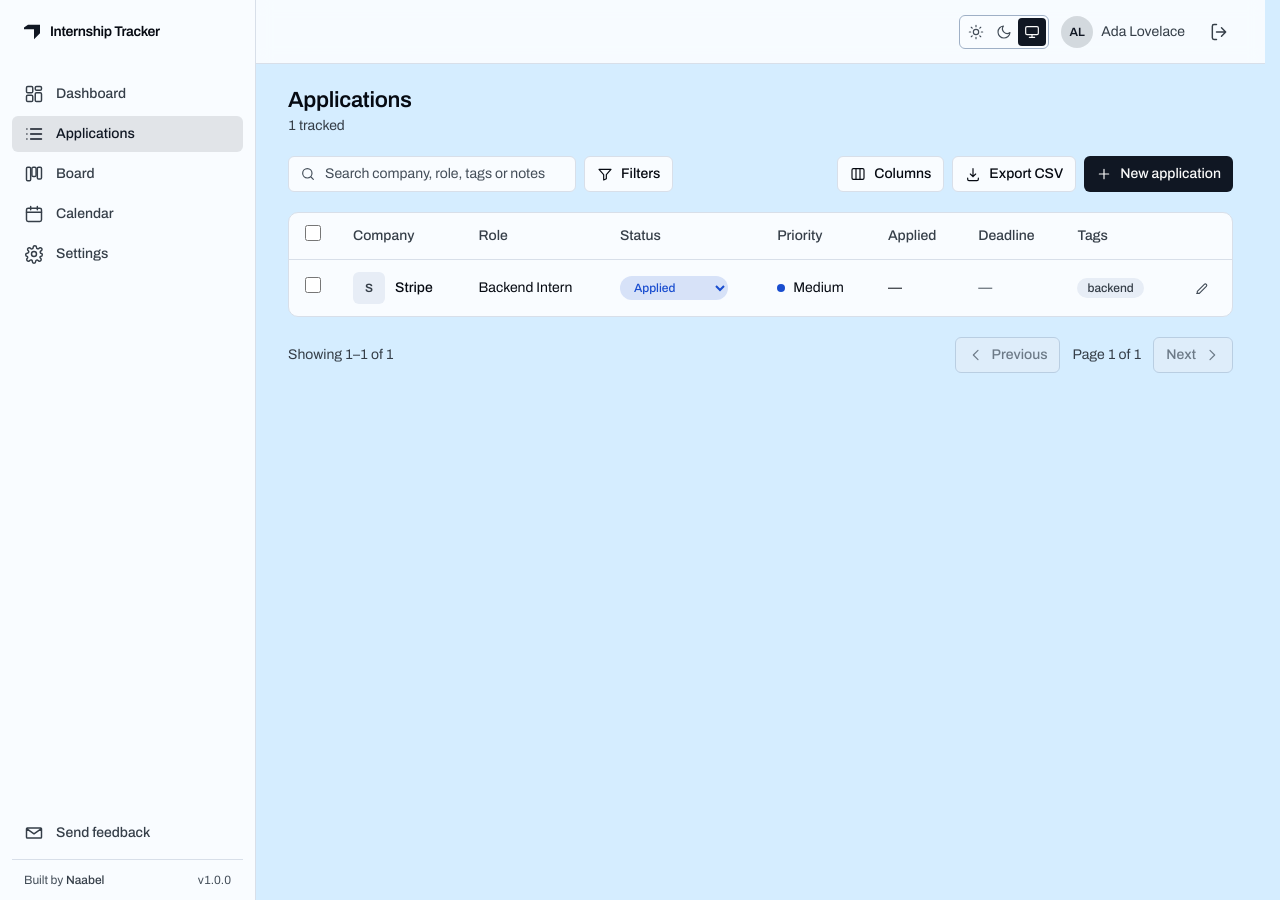
Test: the applications search field › shows a clear button only while there is text, and clicking it clears and refocuses
Check: the link "S Stripe" is shown, box [353,272,433,304]
Type "stri" into the search field named "Search applications" at (432, 174), box [288,156,576,192]
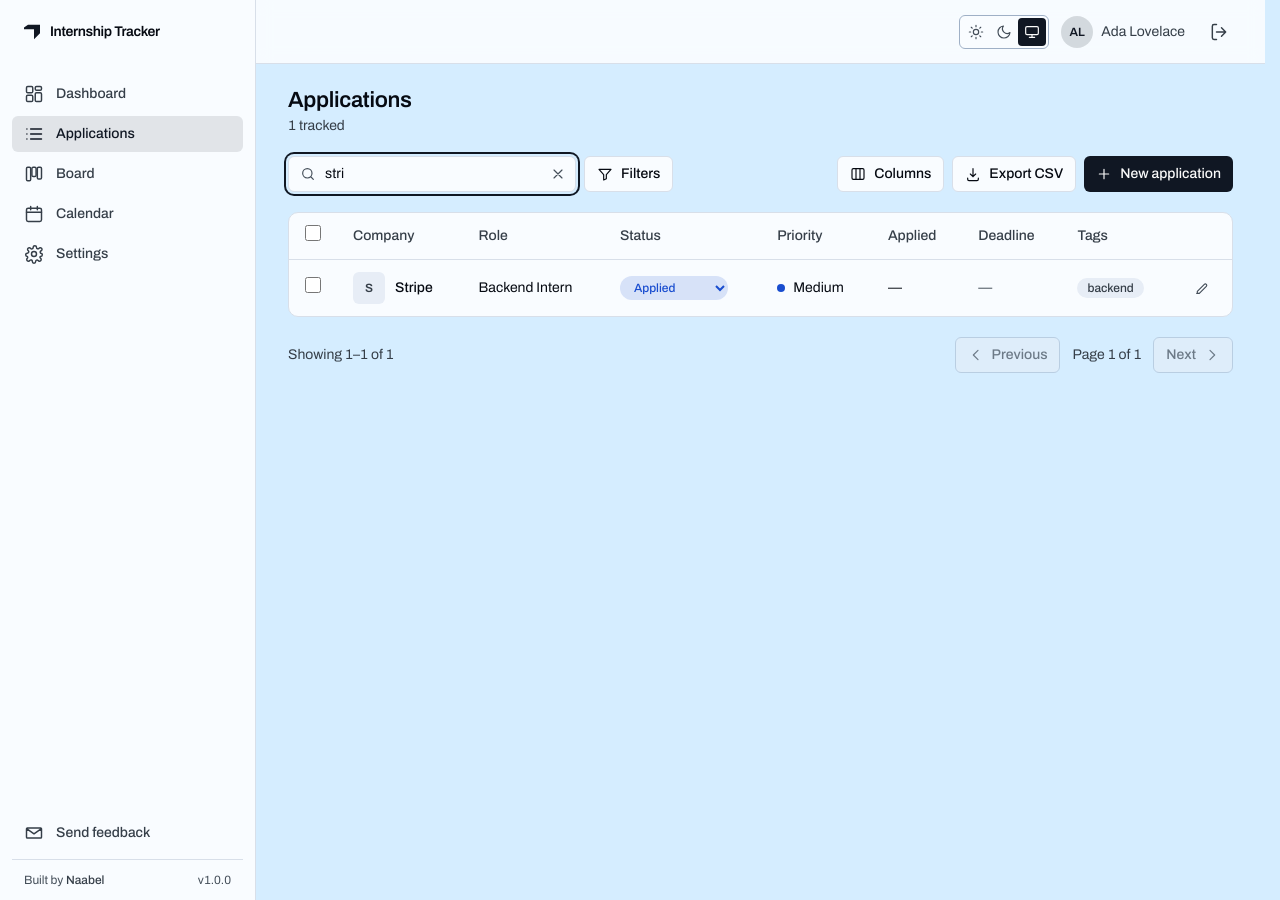
Click the button named "Clear search" at (558, 174), box [544,160,572,188]
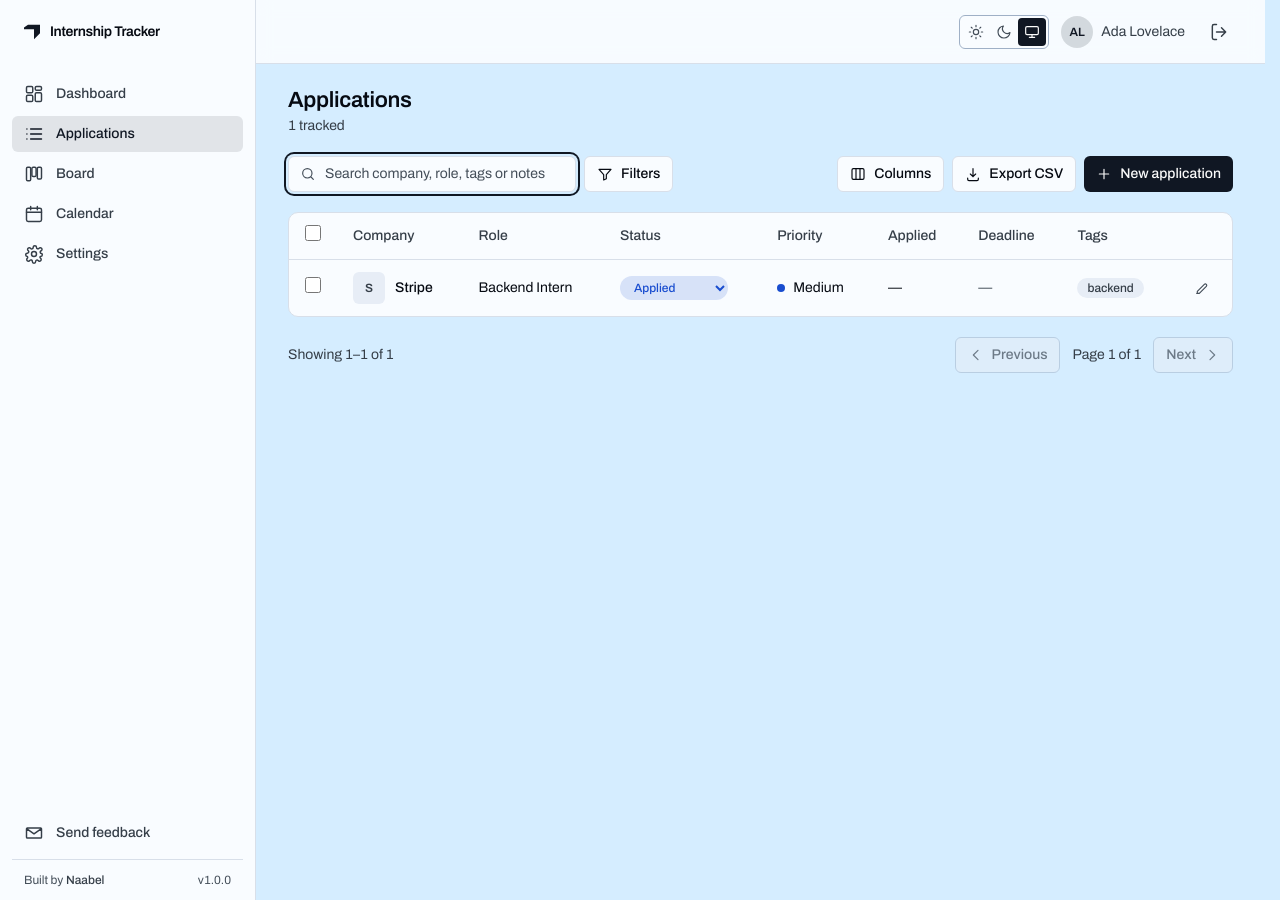
Check: the search field named "Search applications" is empty, box [288,156,576,192]
